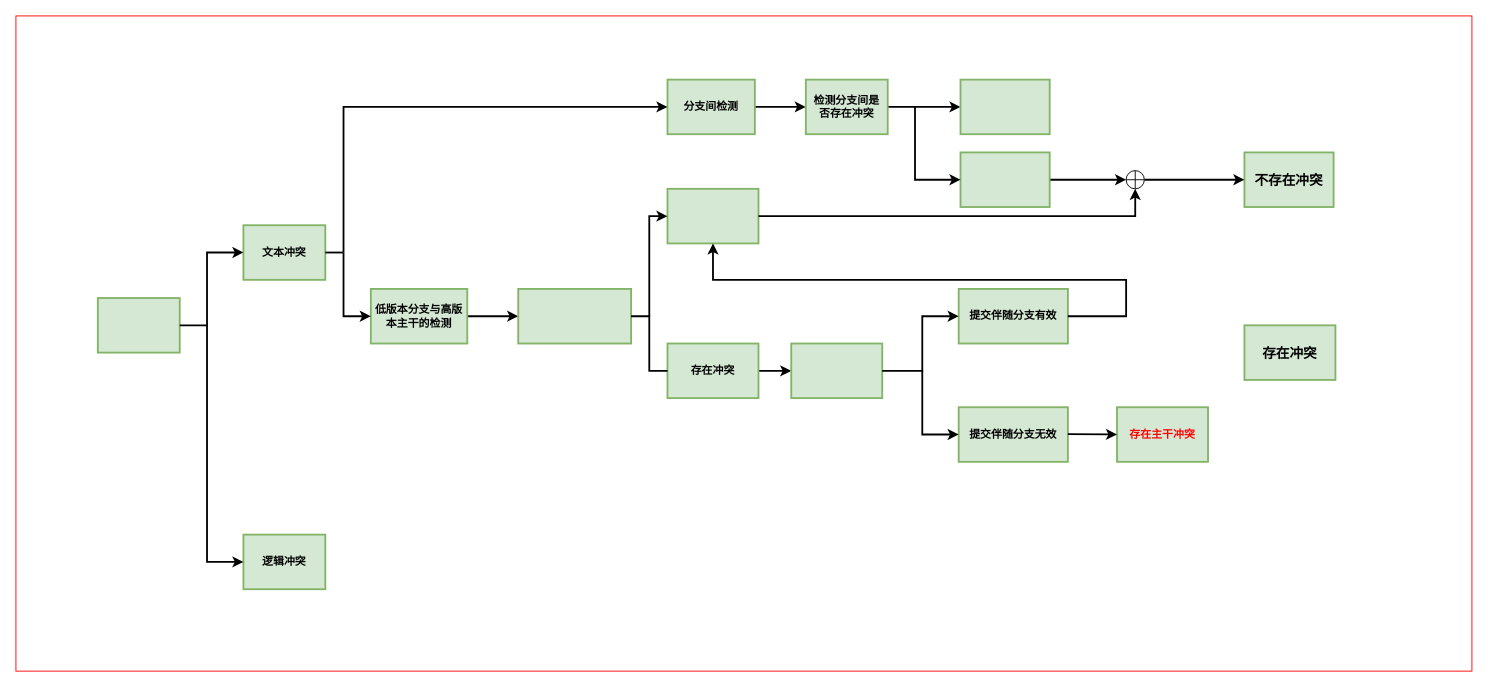
Image size: 1488x687. Some labels were removed from this diagram. Here are the shapes that lost their labels. From the top down, the centre of each, then its label:
the point at 1004,106: 存在项目冲突
the point at 1004,179: 不存在项目冲突
the point at 712,215: 不存在主干冲突
the point at 138,325: CAX研发中心冲突处理策略
the point at 574,316: 检测低版本分支与高版本主干是否存在冲突
the point at 836,370: 检测是否提交伴随分支
